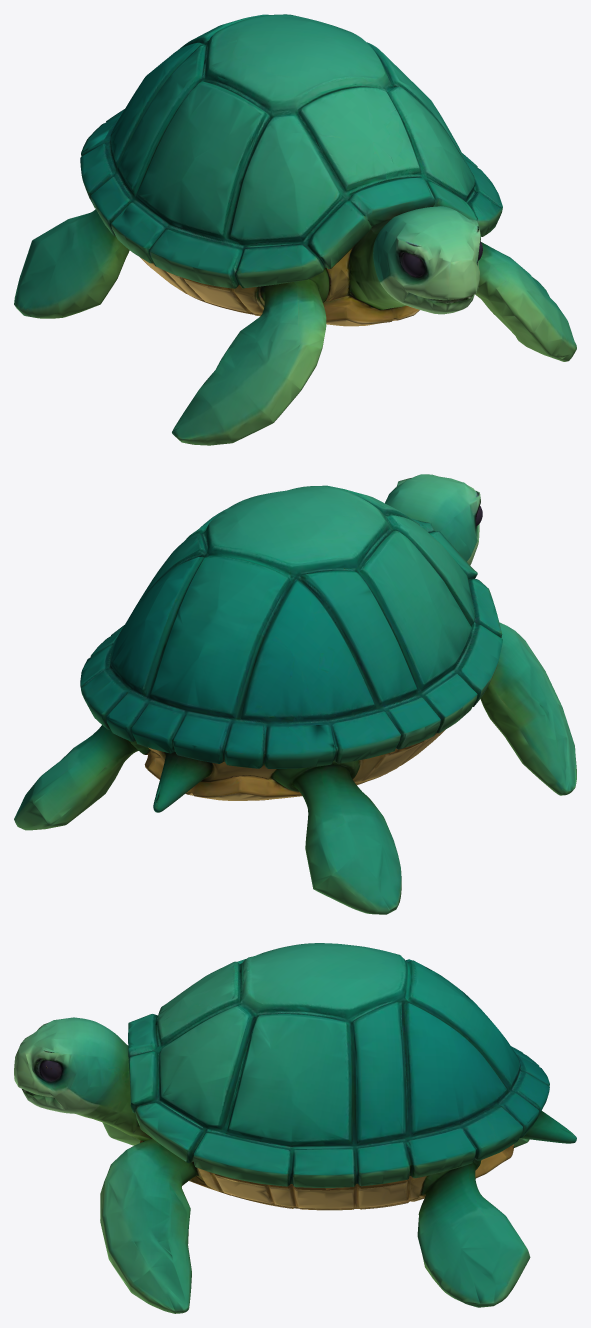
File: turtle.glb
3 views of the same model, one above another, from view 1: azimuth 30°, elevation 25°; view 2: azimuth 150°, elevation 25°; view 3: azimuth 270°, elevation 25° (orthographic). The views are drawn at different scales.
Visible parts, largest first — view 1: node_0; view 2: node_0; view 3: node_0.
Boxes of the visible parts, x1,y1,x2,y2 form: node_0: [14, 14, 576, 445]; node_0: [14, 474, 576, 914]; node_0: [14, 943, 576, 1313].
Bounding box in the file's own units: 0.8029 × 0.5724 × 1.08.
Materials: 1 (1 with a texture image).
